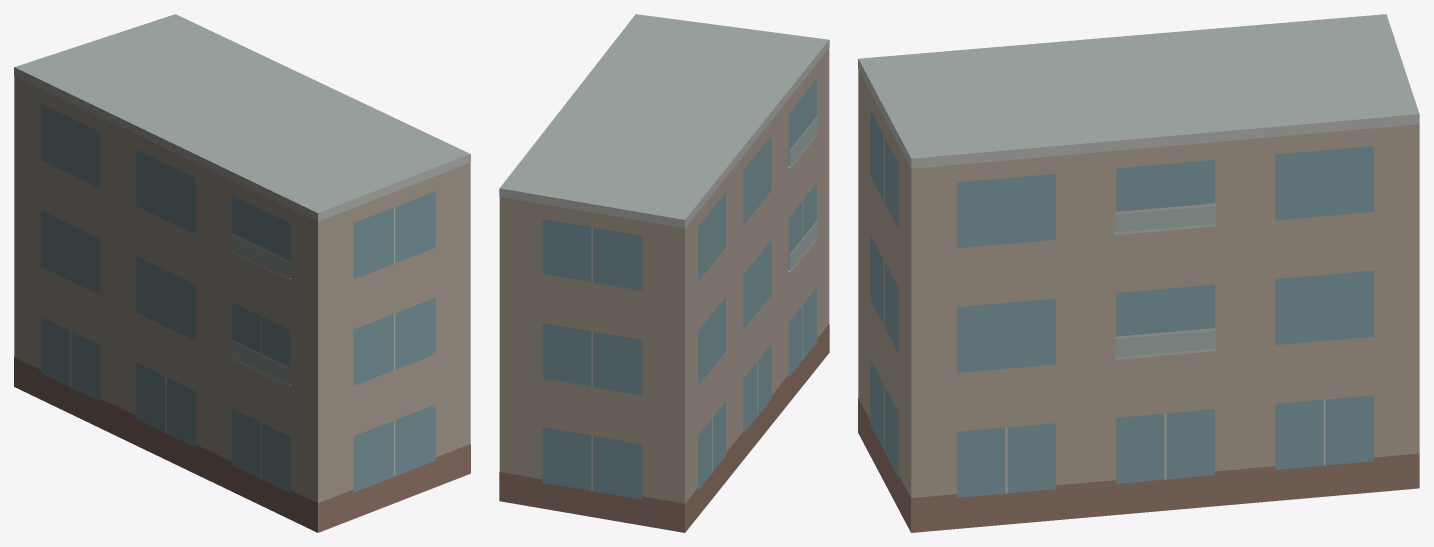
Rendered from survey-upis-32471884.glb.
The picture shows the model from 3 angles, left to right: view 1: azimuth 30°, elevation 25°; view 2: azimuth 150°, elevation 25°; view 3: azimuth 270°, elevation 25°; orthographic projection. The views are drawn at different scales.
Parts seen in each view (by area): view 1: survey-upis-32471884.tmp; view 2: survey-upis-32471884.tmp; view 3: survey-upis-32471884.tmp.
Part boxes in pixels (x1=…): survey-upis-32471884.tmp: x1=14, y1=14, x2=470, y2=532; survey-upis-32471884.tmp: x1=499, y1=14, x2=829, y2=532; survey-upis-32471884.tmp: x1=858, y1=14, x2=1419, y2=532.
Bounding box in the file's own units: 7.6 × 9.15 × 12.45.
